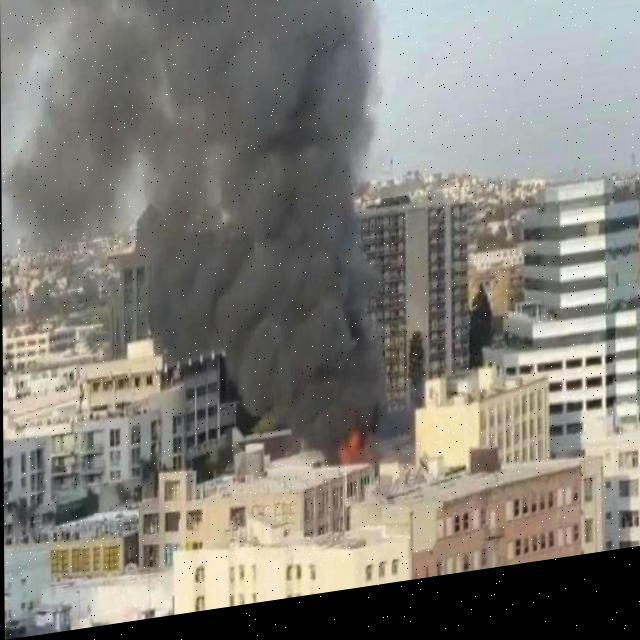Fire: (334, 434, 374, 484)
